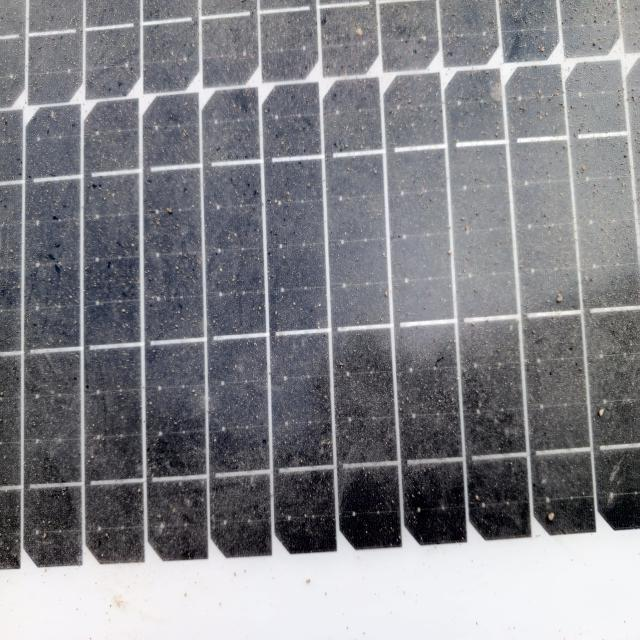Surface Contaminant: (41, 23, 639, 556)
